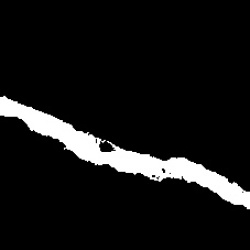crack: (0, 95, 246, 207)
